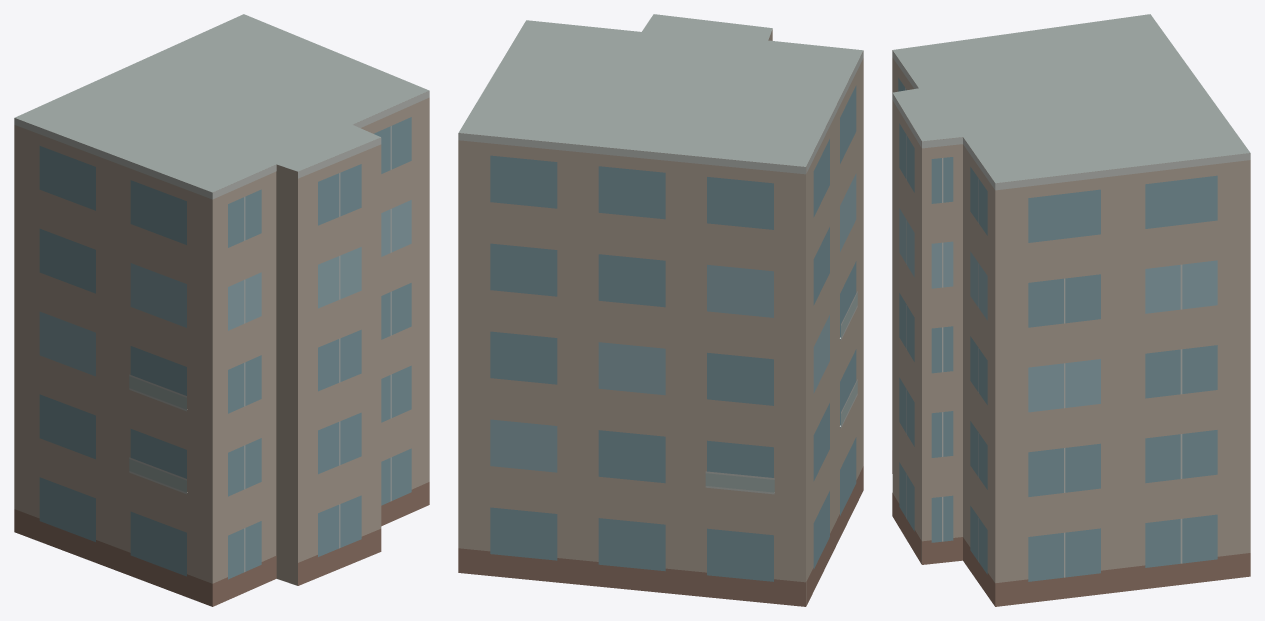
Rendered from survey-upis-32761410.glb.
3 views of the same model, side by side, from view 1: azimuth 30°, elevation 25°; view 2: azimuth 150°, elevation 25°; view 3: azimuth 270°, elevation 25° (orthographic). The views are drawn at different scales.
Parts seen in each view (by area): view 1: survey-upis-32761410.tmp; view 2: survey-upis-32761410.tmp; view 3: survey-upis-32761410.tmp.
Part boxes in pixels (<box>): survey-upis-32761410.tmp: <box>14,14,429,606</box>; survey-upis-32761410.tmp: <box>458,14,863,606</box>; survey-upis-32761410.tmp: <box>892,14,1250,606</box>.
Bounding box in the file's own units: 12.48 × 14.55 × 11.16.
